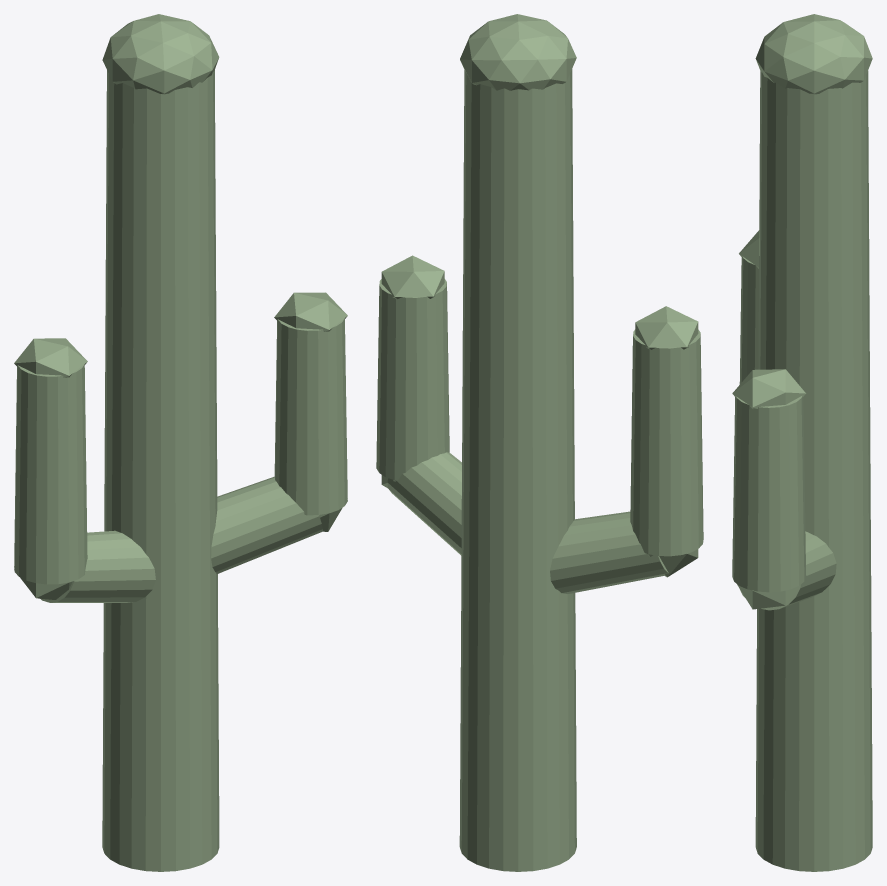
File: cactus.glb
The picture shows the model from 3 angles, left to right: view 1: azimuth 30°, elevation 25°; view 2: azimuth 150°, elevation 25°; view 3: azimuth 270°, elevation 25°; orthographic projection.
Parts seen in each view (by area): view 1: Cactus; view 2: Cactus; view 3: Cactus.
Part boxes in pixels (x1,y1,x2,y2): Cactus: [14, 14, 347, 871]; Cactus: [376, 14, 703, 871]; Cactus: [732, 14, 872, 871].
Bounding box in the file's own units: 1.2 × 2.96 × 0.456.
